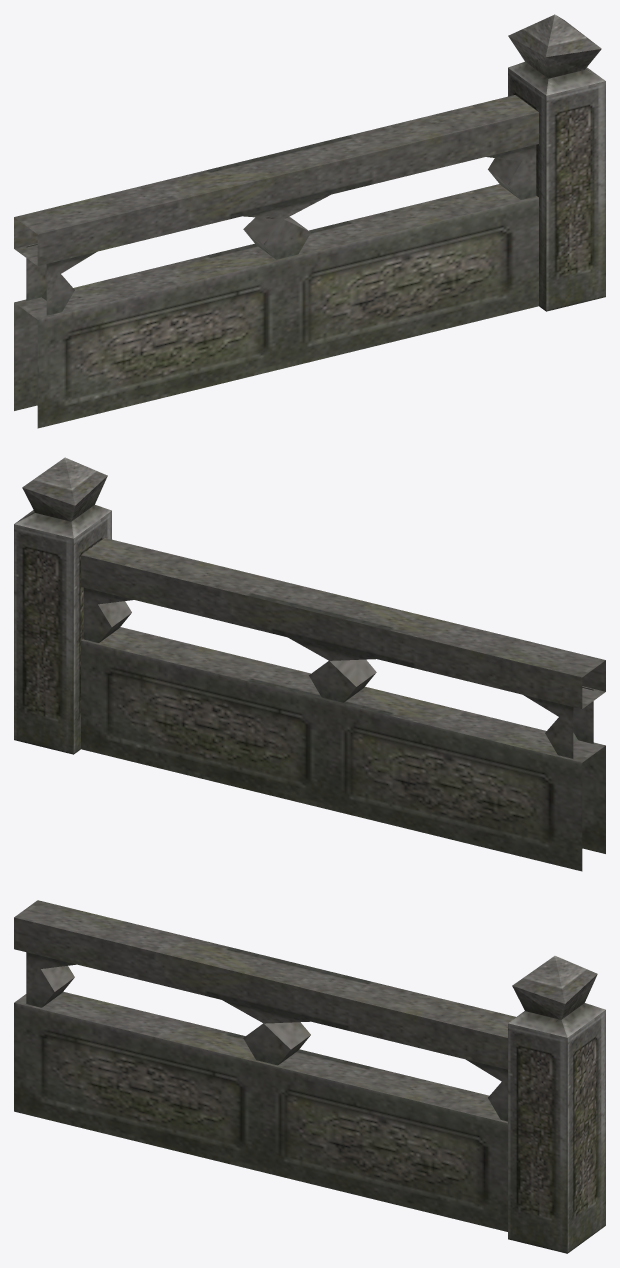
The model's file is lianqizong_taijie05a_jz.FBX.
3 renders of one model, top to bottom at view 1: azimuth 30°, elevation 25°; view 2: azimuth 150°, elevation 25°; view 3: azimuth 330°, elevation 25°, orthographic.
Visible parts, largest first — view 1: lianqizong_taijie05a_jz; view 2: lianqizong_taijie05a_jz; view 3: lianqizong_taijie05a_jz.
Boxes of the visible parts, bbox=[...] form: lianqizong_taijie05a_jz: bbox=[14, 14, 605, 428]; lianqizong_taijie05a_jz: bbox=[14, 457, 605, 871]; lianqizong_taijie05a_jz: bbox=[14, 900, 605, 1253].
Bounding box in the file's own units: 154 × 72.54 × 18.29.
